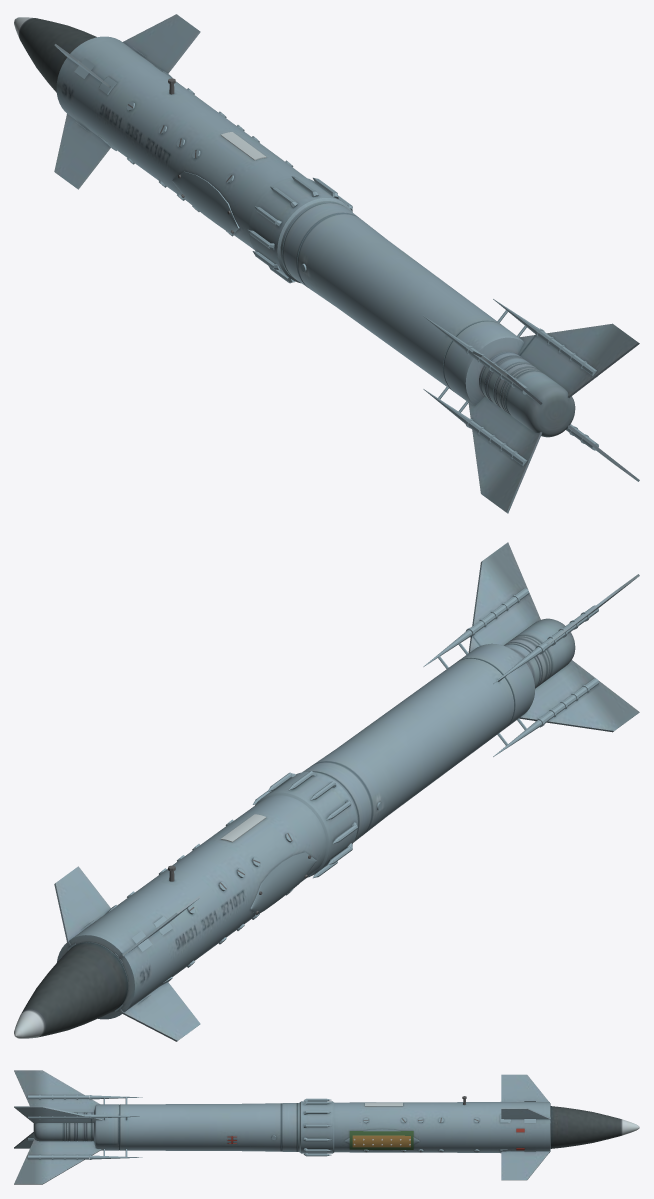
File: msl_tor.glb
3 views of the same model, one above another, from view 1: azimuth 30°, elevation 25°; view 2: azimuth 150°, elevation 25°; view 3: azimuth 270°, elevation 25° (orthographic). The views are drawn at different scales.
Visible parts, largest first — view 1: body|M331_body, body|M331_bodyF, body|M331_dark; view 2: body|M331_body, body|M331_dark, body|M331_bodyF, body|M331_metal; view 3: body|M331_body, body|M331_dark, body|M331_bodyF, body|M331_orange, body|M331_green, body|M331_metal.
Part boxes in pixels (x1,y1,x2,y2): body|M331_body: [54, 14, 639, 513]; body|M331_bodyF: [74, 47, 598, 465]; body|M331_dark: [19, 18, 542, 414]; body|M331_body: [54, 542, 639, 1041]; body|M331_dark: [21, 635, 552, 1036]; body|M331_bodyF: [67, 588, 598, 1011]; body|M331_metal: [14, 1010, 44, 1038]; body|M331_body: [14, 1070, 550, 1184]; body|M331_dark: [63, 1103, 621, 1151]; body|M331_bodyF: [28, 1094, 550, 1159]; body|M331_orange: [352, 1135, 410, 1147]; body|M331_green: [349, 1131, 413, 1149]; body|M331_metal: [622, 1119, 639, 1135].
Size of the model in its own units: 0.4135 by 0.4135 by 3.
Materials: 10 (3 with a texture image).
